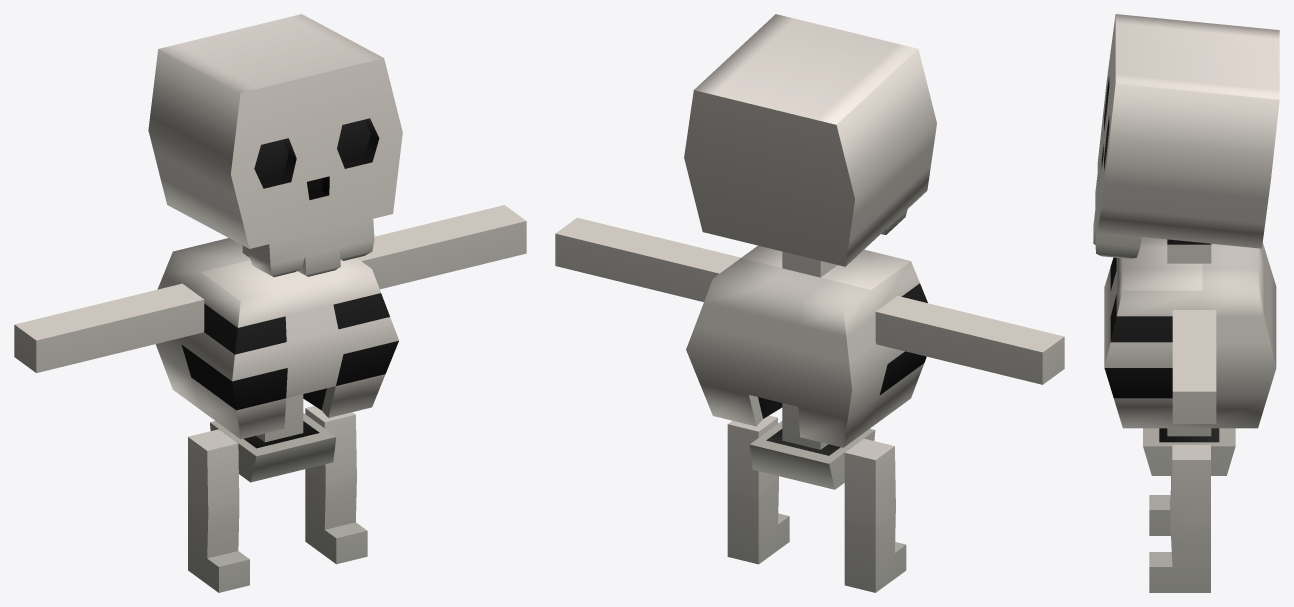
File: scheleton.fbx
3 renders of one model, left to right at view 1: azimuth 30°, elevation 25°; view 2: azimuth 150°, elevation 25°; view 3: azimuth 270°, elevation 25°, orthographic.
Visible parts, largest first — view 1: skeleton; view 2: skeleton; view 3: skeleton.
Part boxes in pixels (<box>): skeleton: <box>14,14,526,592</box>; skeleton: <box>555,14,1064,592</box>; skeleton: <box>1093,14,1279,592</box>.
Bounding box in the file's own units: 1.42 × 1.41 × 0.4688.
